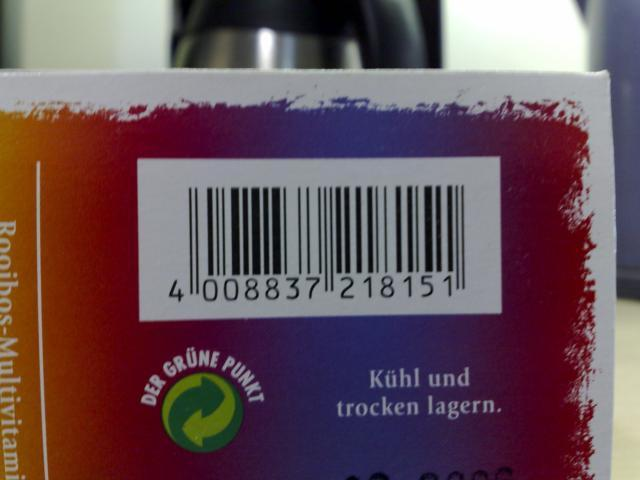Barcode: (152, 176, 472, 314)
